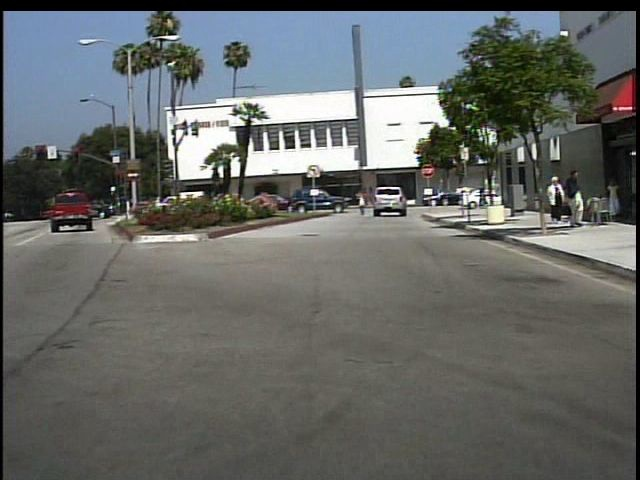person: (566, 169, 588, 230), (602, 177, 625, 224), (546, 176, 567, 226), (471, 181, 495, 214), (356, 186, 372, 218)
